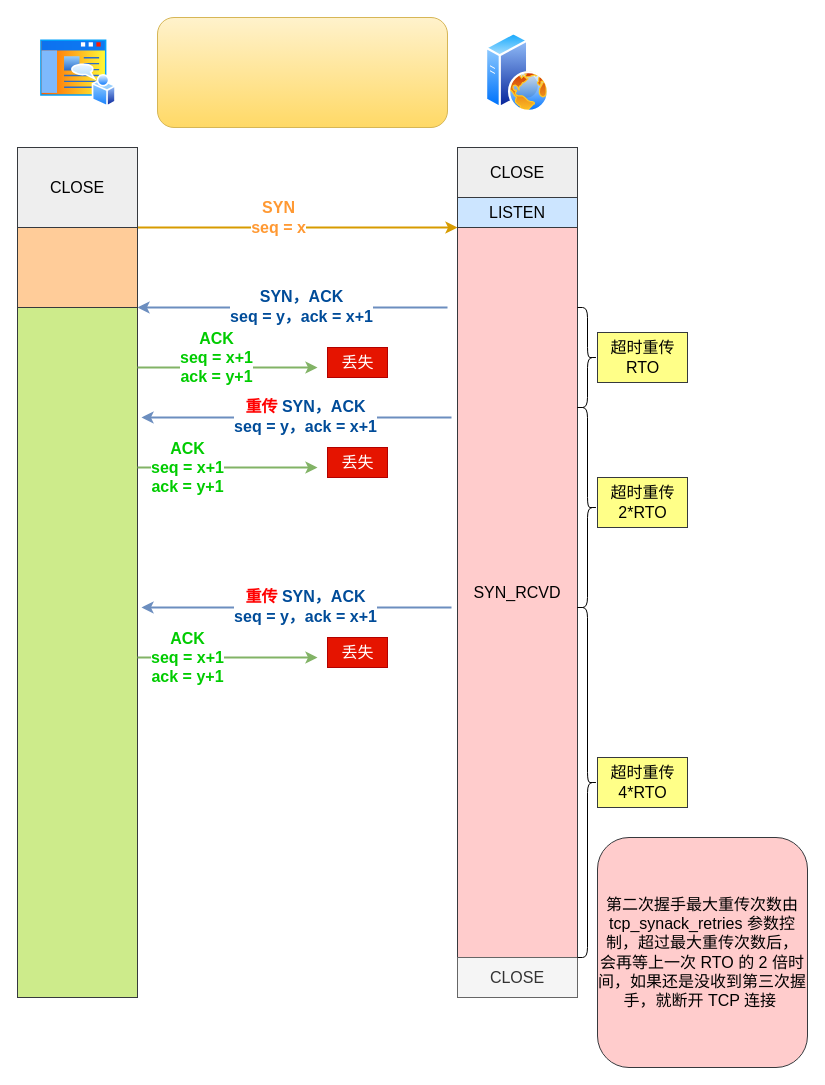
This 825x1085 diagram has some shape labels left out. The centre of each missing label's shape, as x and y in pixels:
ESTABLISH: pixel 77 652
SYN_SENT: pixel 77 267
假设 tcp_synack_retries = 2， 当第三次握手一直丢失时: pixel 302 72
客户端: pixel 77 72
服务端: pixel 517 72
